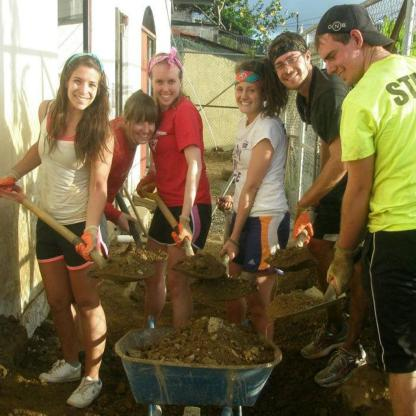face: (318, 38, 357, 89), (69, 65, 99, 111), (275, 53, 308, 91), (154, 66, 183, 109), (235, 76, 262, 114), (134, 110, 157, 146)
